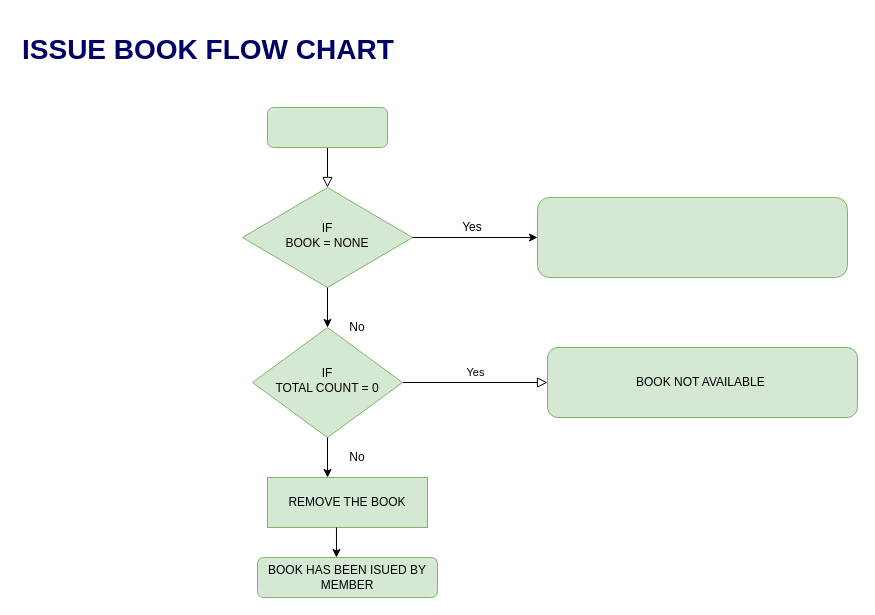
Image size: 875x615. Some labels were removed from this diagram. The shapes that lost their labels are listed below. From the top down, each one's centre as x and y in pixels, then its label:
(x=327, y=127): MEMBER
(x=692, y=237): BOOK DOES NOT EXIST IN LIBRARY
